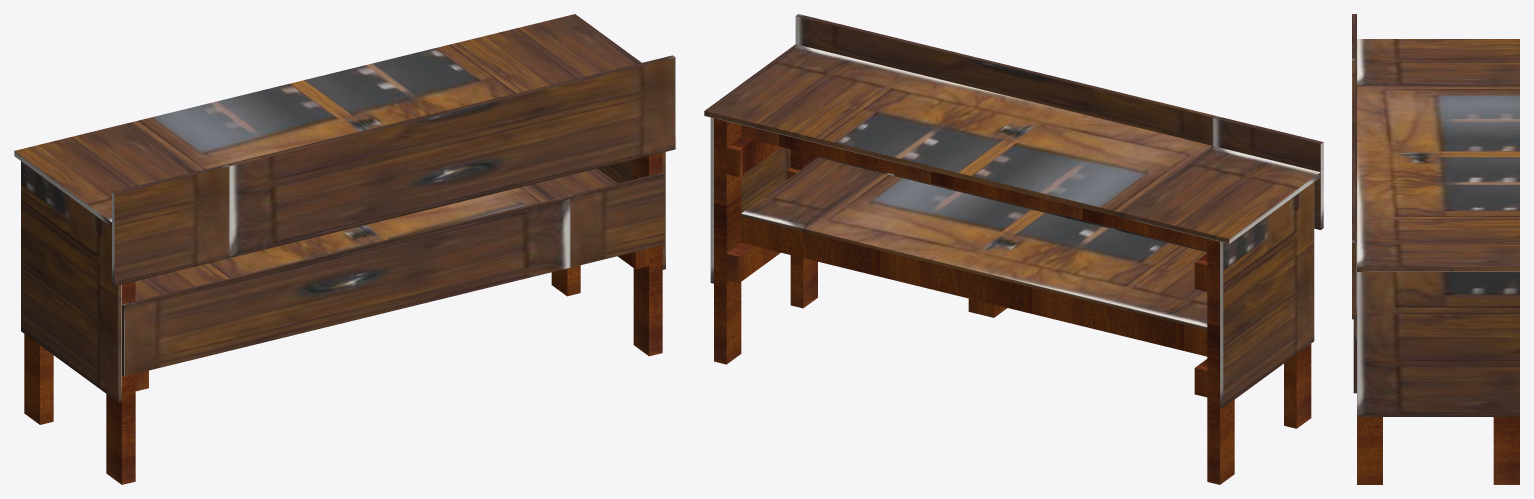
3 renders of one model, left to right at view 1: azimuth 30°, elevation 25°; view 2: azimuth 150°, elevation 25°; view 3: azimuth 270°, elevation 25°, orthographic. The views are drawn at different scales.
Visible parts, largest first — view 1: mesh15_mesh15-geometry, mesh19_mesh19-geometry, mesh17_mesh17-geometry, mesh13_mesh13-geometry, mesh11_mesh11-geometry, mesh7_mesh7-geometry; view 2: mesh17_mesh17-geometry, mesh11_mesh11-geometry, mesh13_mesh13-geometry, mesh15_mesh15-geometry, mesh7_mesh7-geometry, mesh3_mesh3-geometry, mesh9_mesh9-geometry, mesh5_mesh5-geometry, mesh19_mesh19-geometry; view 3: mesh17_mesh17-geometry, mesh13_mesh13-geometry, mesh7_mesh7-geometry, mesh15_mesh15-geometry, mesh19_mesh19-geometry.
Part boxes in pixels (x1,y1,x2,y2): mesh15_mesh15-geometry: (112,55,675,285); mesh19_mesh19-geometry: (122,172,664,376); mesh17_mesh17-geometry: (14,14,641,227); mesh13_mesh13-geometry: (21,152,665,402); mesh11_mesh11-geometry: (135,168,617,300); mesh7_mesh7-geometry: (24,152,662,484); mesh17_mesh17-geometry: (704,44,1320,243); mesh11_mesh11-geometry: (741,157,1207,330); mesh13_mesh13-geometry: (710,117,1314,407); mesh15_mesh15-geometry: (795,14,1323,229); mesh7_mesh7-geometry: (714,118,1311,484); mesh3_mesh3-geometry: (741,168,1207,356); mesh9_mesh9-geometry: (741,125,1207,250); mesh5_mesh5-geometry: (726,137,1207,397); mesh19_mesh19-geometry: (818,156,1207,252); mesh17_mesh17-geometry: (1357,39,1519,271); mesh13_mesh13-geometry: (1357,272,1519,416); mesh7_mesh7-geometry: (1357,417,1519,484); mesh15_mesh15-geometry: (1352,14,1356,319); mesh19_mesh19-geometry: (1353,319,1356,393).
Bounding box in the file's own units: 0.8609 × 0.433 × 0.2671.
